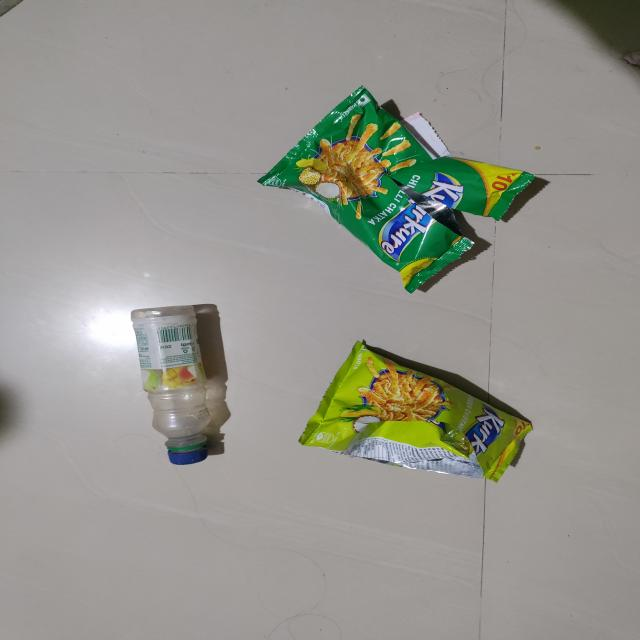plastic: (256, 105, 525, 298), (294, 321, 550, 510), (51, 281, 270, 490)
